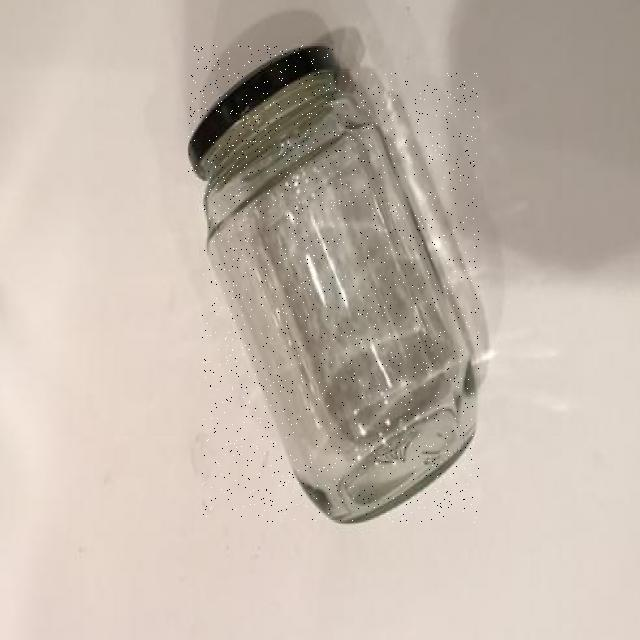glass: (203, 71, 479, 523)
metal: (188, 45, 337, 178)
